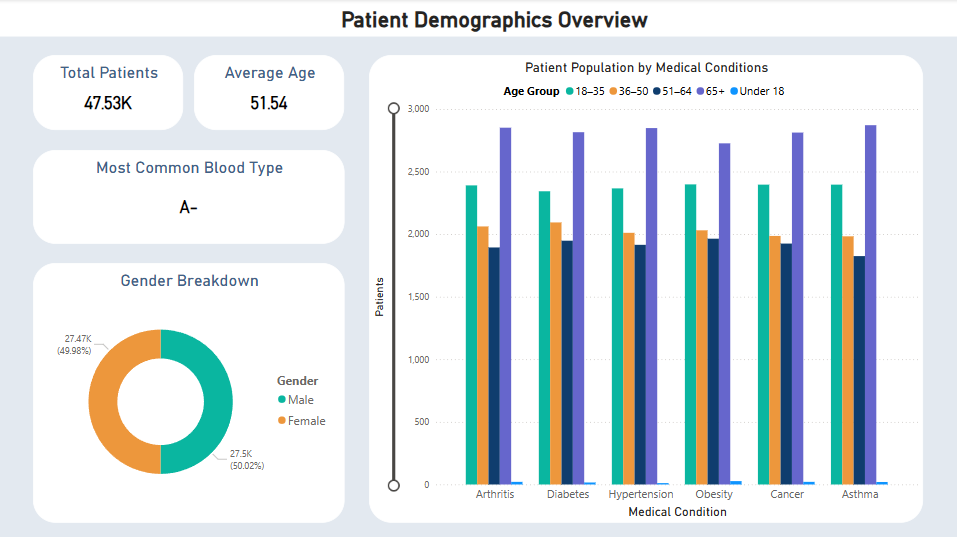

What the dashboard file says about the page in this screenshot:
{"tool":"powerbi","page":{"name":"Demographics Overview","canvas":[1280,720],"ordinal":0},"visuals":[{"type":"card","title":"Total Patients","fields":{"Values":["Count(dashboard_dataset.patient_id)"]},"box":[45,74.5,200.5,100.2],"z":0},{"type":"textbox","box":[0,0,1280,50],"z":1000},{"type":"card","title":"Average Age","fields":{"Values":["Avg(dashboard_dataset.age)"]},"box":[259.6,74.5,200.5,100.2],"z":2000},{"type":"donutChart","title":"Gender Breakdown","fields":{"Category":["dashboard_dataset.gender"],"Y":["CountNonNull(dashboard_dataset.patient_id)"]},"box":[45,352.1,415.1,345.7],"z":3000},{"type":"clusteredColumnChart","title":"Patient Population by Medical Conditions","fields":{"Category":["dashboard_dataset.medical_condition"],"Y":["CountNonNull(dashboard_dataset.patient_id)"],"Series":["dashboard_dataset.Age Group"]},"box":[492.2,74.5,737.7,623.3],"z":4000},{"type":"card","title":"Most Common Blood Type","fields":{"Values":["dashboard_dataset.Most Common Blood Type"]},"box":[45,201.8,415.1,124.7],"z":5000}]}

Visuals, with their boxes in screenshot pixels (x1, y1, x2, y2), scaled from the page's 1280x720 canvas onto the 957x537 screenshot:
"Total Patients" card: select_region(34, 56, 184, 130)
textbox: select_region(0, 0, 956, 37)
"Average Age" card: select_region(194, 56, 344, 130)
"Gender Breakdown" donutChart: select_region(34, 263, 344, 520)
"Patient Population by Medical Conditions" clusteredColumnChart: select_region(368, 56, 920, 520)
"Most Common Blood Type" card: select_region(34, 151, 344, 244)
